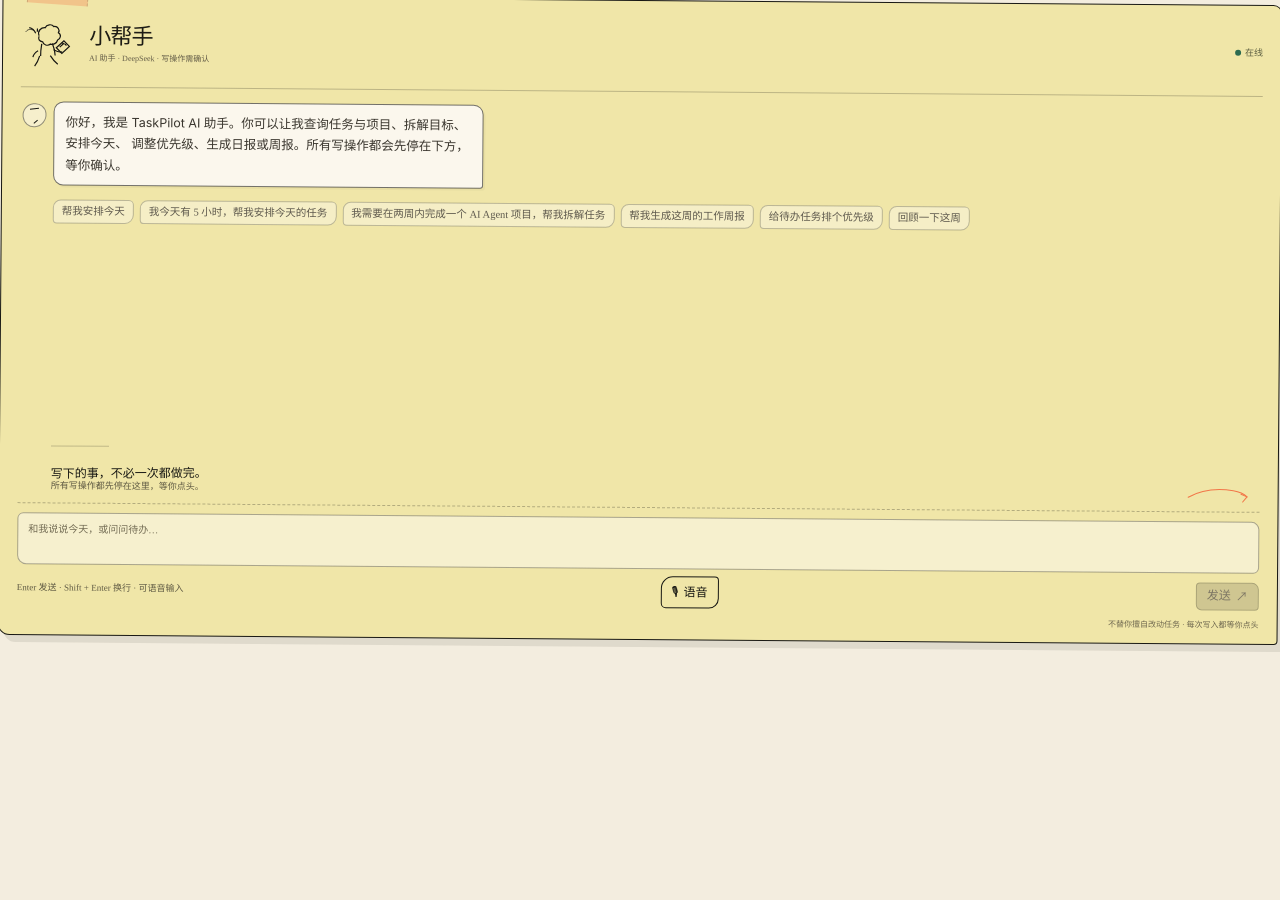
Scenario: AssistantPanel › shows a create draft and only writes after confirmation
The width and height of the screenshot is (1280, 900).
In the text box named "给 AI 助手发送消息": (638, 543) [17,512,1260,574], type "明天下午三点创建新任务"
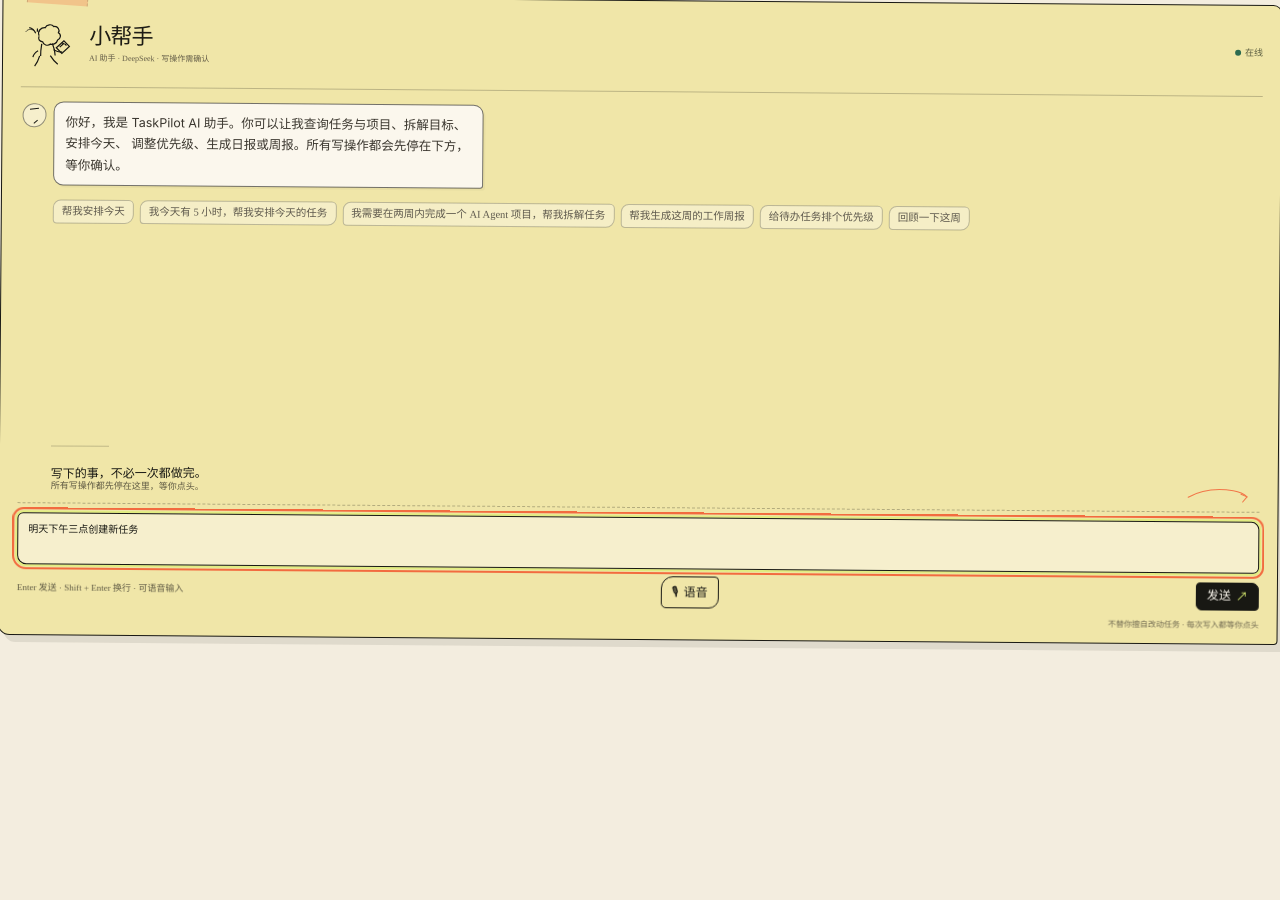
Click the button "发送 ↗": (1227, 597) [1196,583,1259,611]
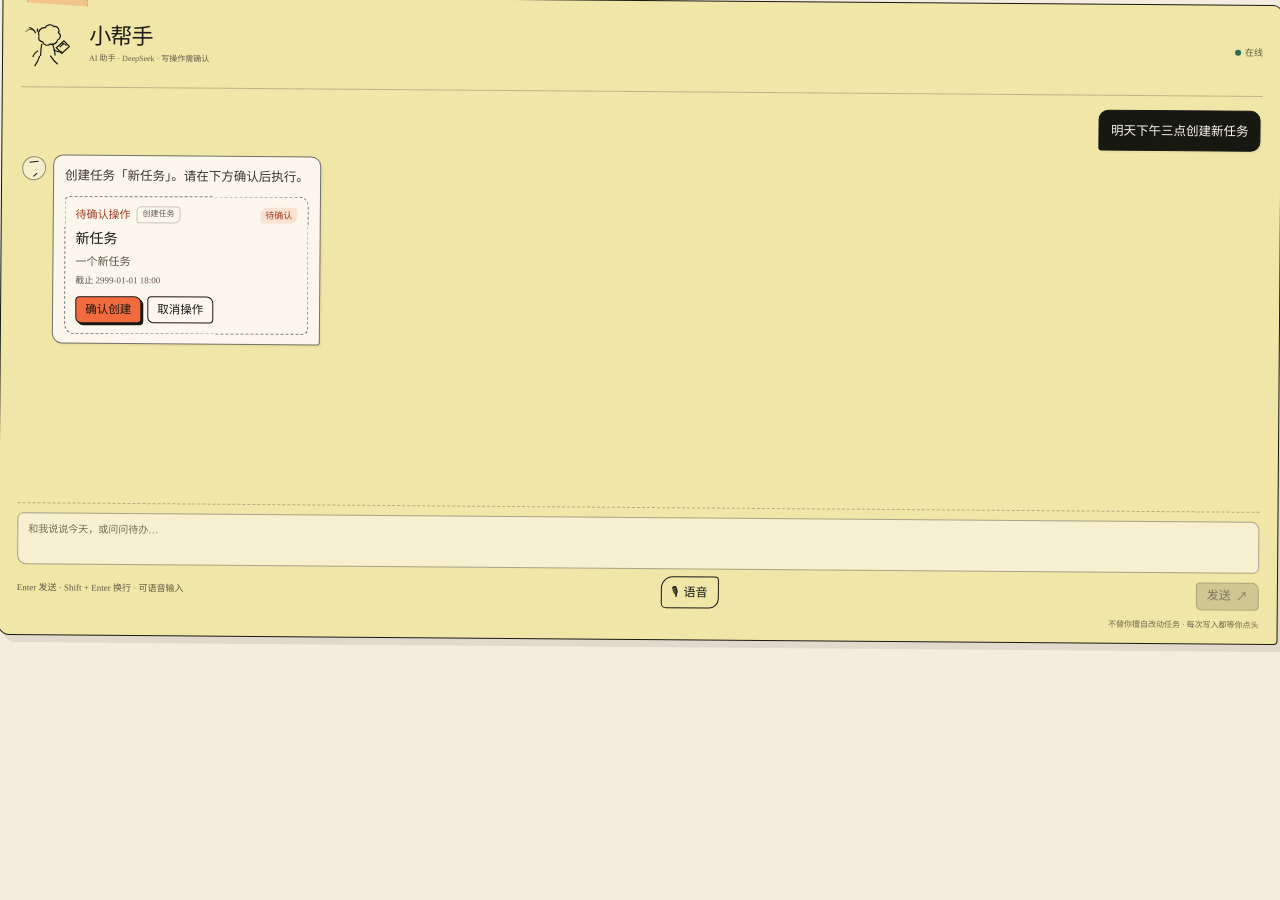
Expected: the text "待确认操作" is shown, [76,206,130,223]
Click the button "确认创建": (108, 309) [75,296,141,323]
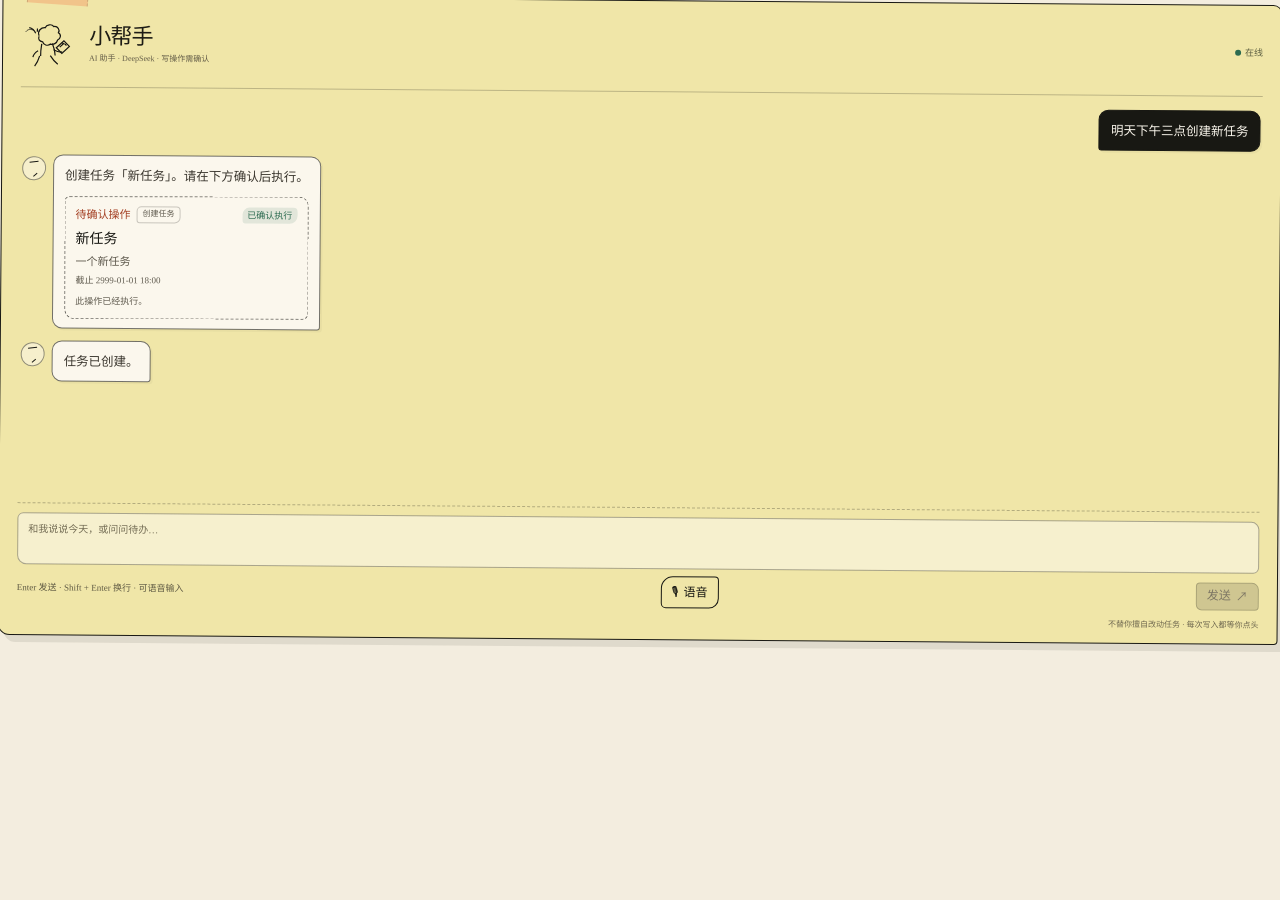
Expected: the text "此操作已经执行。" is shown, [75,296,147,306]
